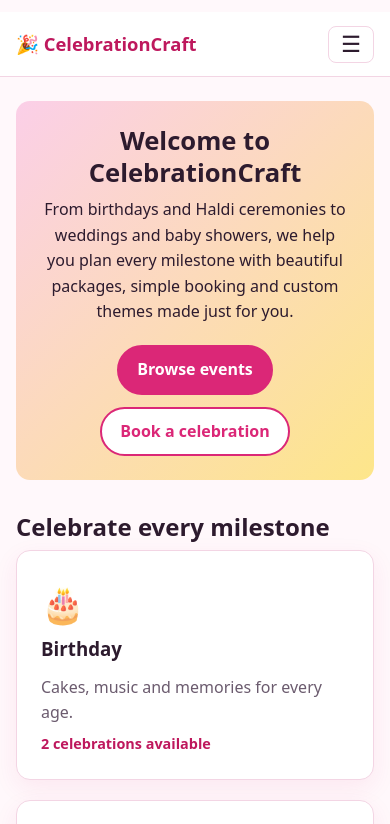
Navigation › mobile menu button toggles the navigation and closes after choosing a link
Click the button named "Toggle navigation menu".
click(351, 44)  # box [328,26,374,62]
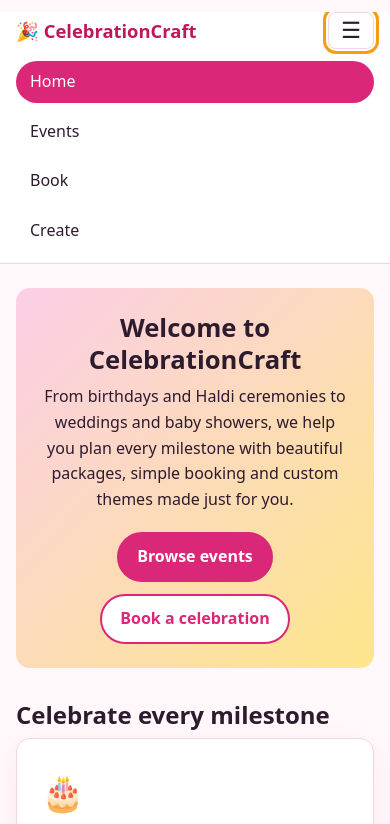
Check: the button named "Toggle navigation menu" is expanded, box [328,12,374,49]
Click the link "Events".
click(55, 131)  # box [30,120,79,142]
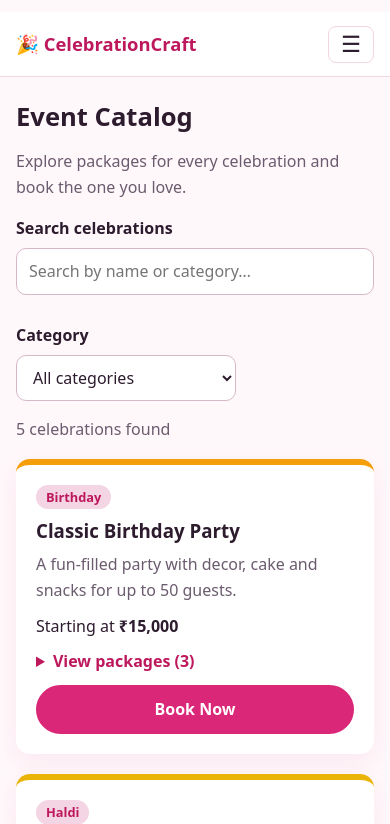
Check: the button named "Toggle navigation menu" is collapsed, box [328,26,374,62]
